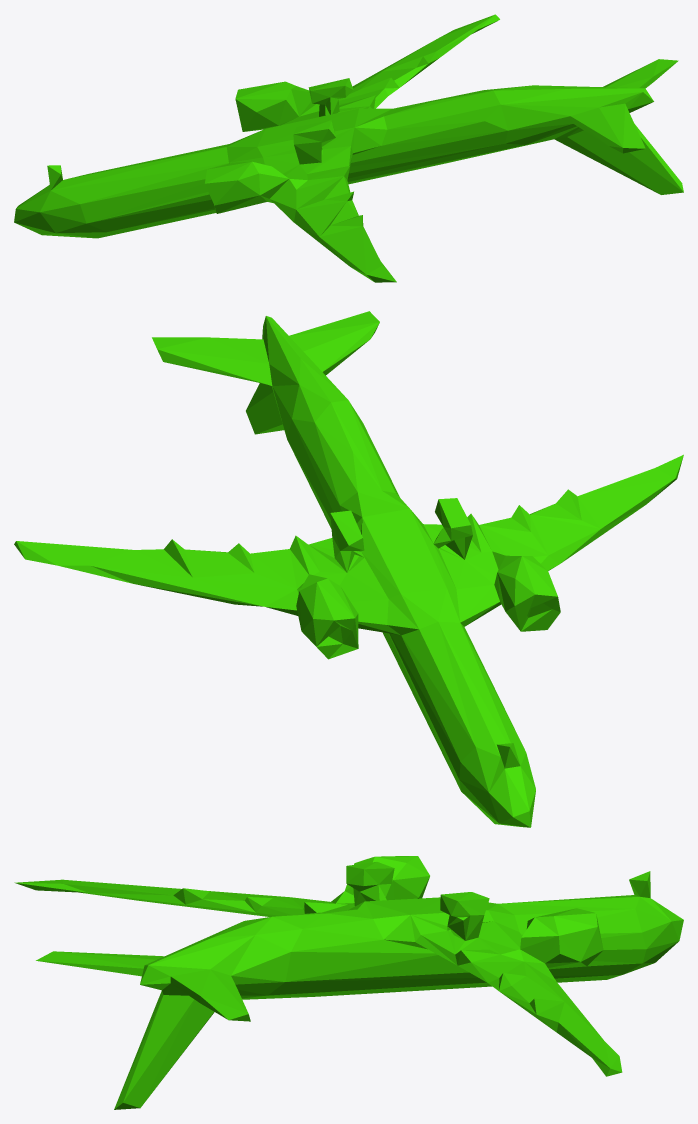
The picture shows the model from 3 angles, top to bottom: view 1: azimuth 30°, elevation 25°; view 2: azimuth 150°, elevation 25°; view 3: azimuth 270°, elevation 25°; orthographic projection. The views are drawn at different scales.
Size of the model in its own units: 4871 by 1790 by 4479.
